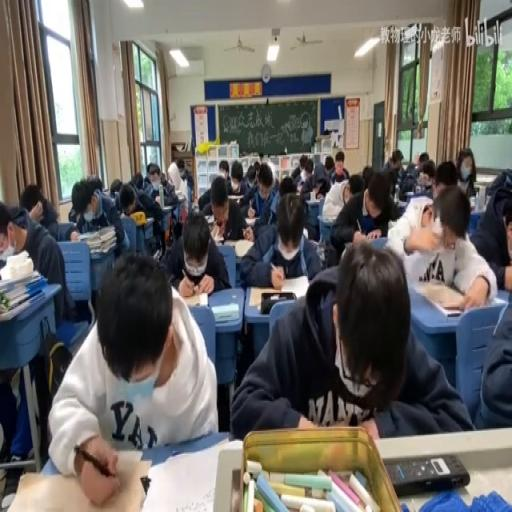calculator: (0, 263, 49, 319), (247, 279, 308, 307), (416, 280, 466, 314), (210, 300, 238, 322), (178, 287, 208, 306), (233, 236, 254, 256), (221, 240, 237, 252), (396, 196, 408, 212), (243, 215, 257, 226), (304, 196, 320, 205), (152, 194, 162, 208), (203, 214, 214, 224), (144, 216, 154, 225), (174, 191, 184, 199)
paper: (231, 240, 466, 440), (48, 250, 214, 498), (238, 189, 322, 289), (162, 206, 229, 294), (332, 168, 396, 257), (473, 284, 512, 429), (66, 175, 126, 264), (467, 174, 512, 290), (118, 179, 170, 253), (20, 180, 62, 242), (0, 197, 26, 256), (403, 158, 435, 199), (455, 148, 478, 199), (224, 159, 250, 202), (432, 158, 458, 199), (297, 158, 321, 199), (142, 160, 165, 194), (175, 158, 194, 192), (330, 148, 348, 179), (160, 181, 178, 206), (388, 149, 404, 175), (262, 155, 276, 182), (278, 176, 296, 196), (347, 173, 363, 195), (88, 174, 103, 196), (361, 164, 374, 186), (118, 190, 132, 210), (244, 165, 256, 186), (108, 178, 122, 196), (218, 158, 229, 179), (417, 151, 429, 168), (290, 165, 300, 183), (132, 172, 142, 189), (324, 155, 334, 171), (160, 170, 166, 184)
person: (385, 452, 470, 494), (230, 466, 242, 510), (139, 474, 150, 496), (446, 309, 462, 317)
